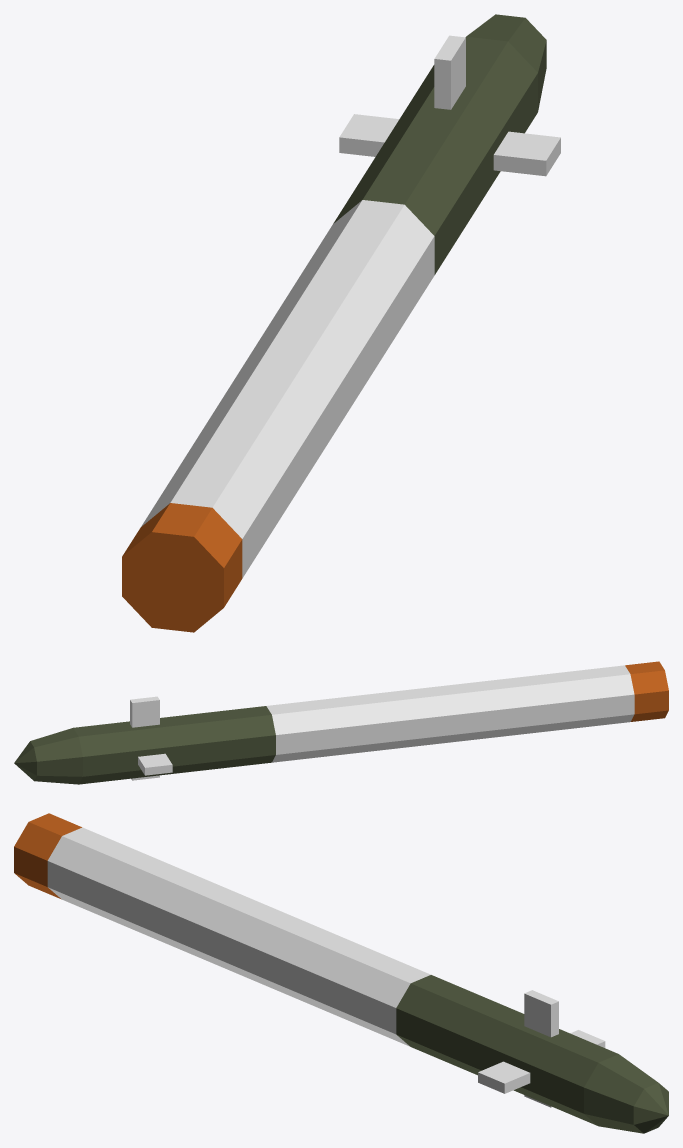
File: ce_ammo2_apkws_heat_a.obj
The picture shows the model from 3 angles, top to bottom: view 1: azimuth 30°, elevation 25°; view 2: azimuth 150°, elevation 25°; view 3: azimuth 270°, elevation 25°; orthographic projection. The views are drawn at different scales.
Visible parts, largest first — view 1: ce_ammo2_apkws_heat_a_1, ce_ammo2_apkws_heat_a_2, ce_ammo2_apkws_heat_a_0, ce_ammo2_apkws_heat_a_5, ce_ammo2_apkws_heat_a_3, ce_ammo2_apkws_heat_a_6; view 2: ce_ammo2_apkws_heat_a_1, ce_ammo2_apkws_heat_a_2, ce_ammo2_apkws_heat_a_3, ce_ammo2_apkws_heat_a_0, ce_ammo2_apkws_heat_a_6, ce_ammo2_apkws_heat_a_5, ce_ammo2_apkws_heat_a_4; view 3: ce_ammo2_apkws_heat_a_1, ce_ammo2_apkws_heat_a_2, ce_ammo2_apkws_heat_a_3, ce_ammo2_apkws_heat_a_0, ce_ammo2_apkws_heat_a_5, ce_ammo2_apkws_heat_a_6, ce_ammo2_apkws_heat_a_4.
Boxes of the visible parts, x1,y1,x2,y2 form: ce_ammo2_apkws_heat_a_1: (141, 200, 434, 578); ce_ammo2_apkws_heat_a_2: (333, 36, 537, 274); ce_ammo2_apkws_heat_a_0: (122, 503, 242, 632); ce_ammo2_apkws_heat_a_5: (339, 114, 560, 176); ce_ammo2_apkws_heat_a_3: (466, 14, 546, 111); ce_ammo2_apkws_heat_a_6: (434, 35, 465, 109); ce_ammo2_apkws_heat_a_1: (266, 665, 634, 762); ce_ammo2_apkws_heat_a_2: (73, 706, 275, 784); ce_ammo2_apkws_heat_a_3: (30, 728, 82, 784); ce_ammo2_apkws_heat_a_0: (625, 661, 668, 721); ce_ammo2_apkws_heat_a_6: (130, 696, 159, 780); ce_ammo2_apkws_heat_a_5: (138, 753, 172, 775); ce_ammo2_apkws_heat_a_4: (14, 741, 36, 780); ce_ammo2_apkws_heat_a_1: (47, 827, 430, 1046); ce_ammo2_apkws_heat_a_2: (396, 975, 618, 1125); ce_ammo2_apkws_heat_a_3: (584, 1054, 658, 1133); ce_ammo2_apkws_heat_a_0: (14, 813, 81, 899); ce_ammo2_apkws_heat_a_5: (478, 1030, 605, 1093); ce_ammo2_apkws_heat_a_6: (524, 990, 558, 1107); ce_ammo2_apkws_heat_a_4: (633, 1083, 668, 1133).
Size of the model in its own units: 0.6908 by 0.1198 by 0.6908.
